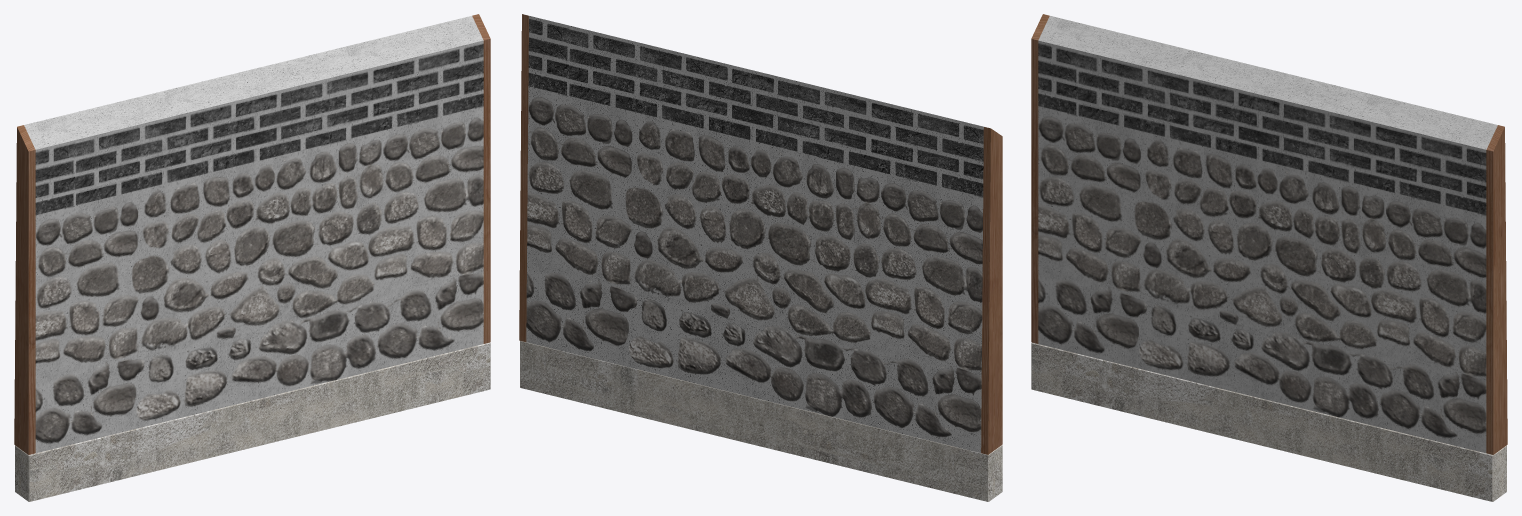
File: SM_Baeryeom_Wall_C2.fbx
The picture shows the model from 3 angles, left to right: view 1: azimuth 30°, elevation 25°; view 2: azimuth 150°, elevation 25°; view 3: azimuth 330°, elevation 25°; orthographic projection.
Visible parts, largest first — view 1: SM_Baeryeom_Wall_C2; view 2: SM_Baeryeom_Wall_C2; view 3: SM_Baeryeom_Wall_C2.
Part boxes in pixels (x1,y1,x2,y2): SM_Baeryeom_Wall_C2: [14, 14, 490, 501]; SM_Baeryeom_Wall_C2: [519, 14, 1002, 501]; SM_Baeryeom_Wall_C2: [1031, 14, 1507, 501].
Size of the model in its own units: 198 by 150 by 10.94.
